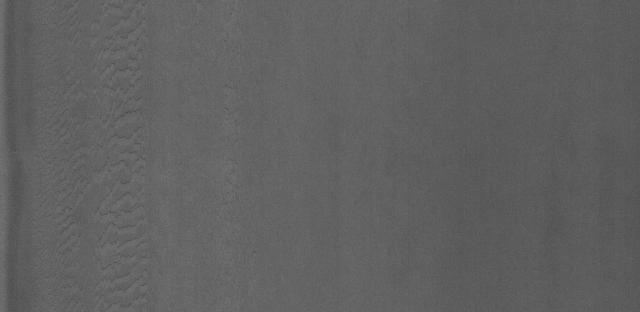silk_spot: (73, 13, 158, 287)
